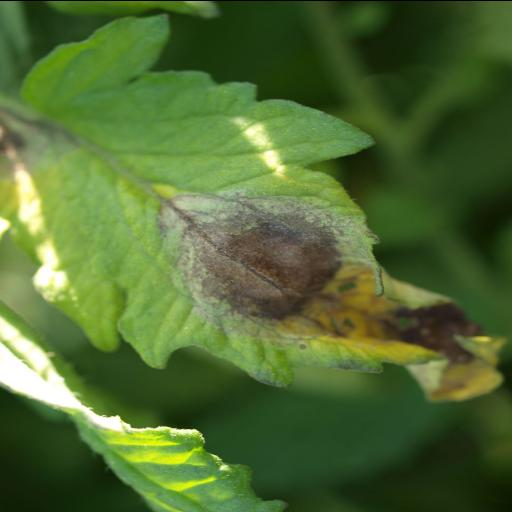disease_tomato: (20, 8, 508, 402)
